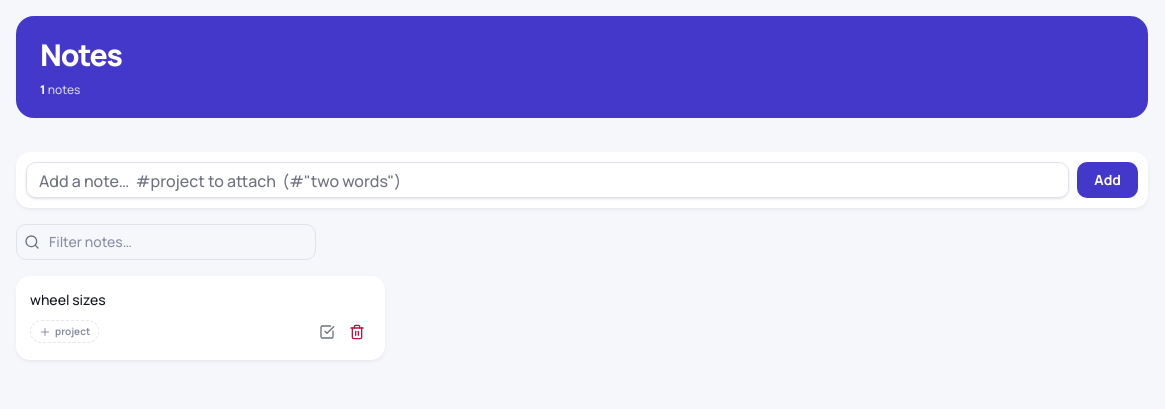
Scenario: editing a note's text › abandons the edit on Escape
Click the button "wheel sizes": (68, 299) [30,290,371,310]
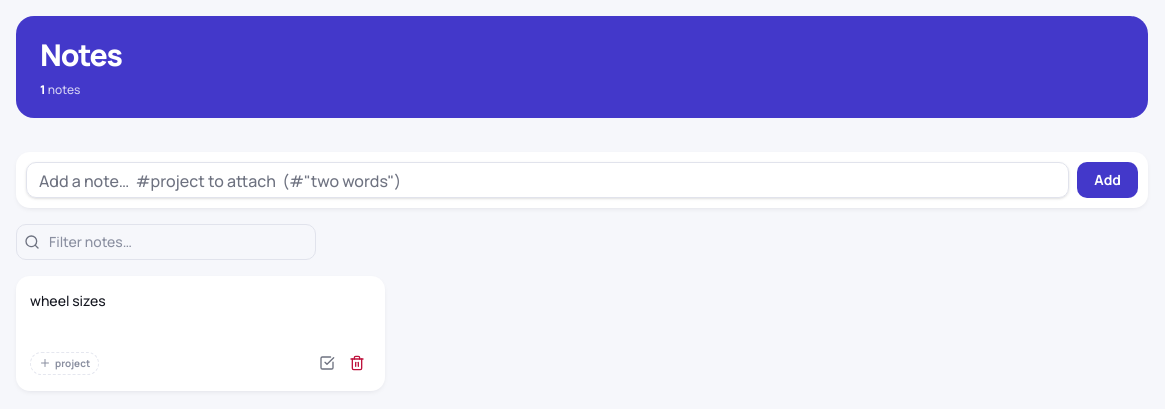
In the text box named "Note text": (201, 312) [30,290,371,335], type " and pressures"
Then press Escape
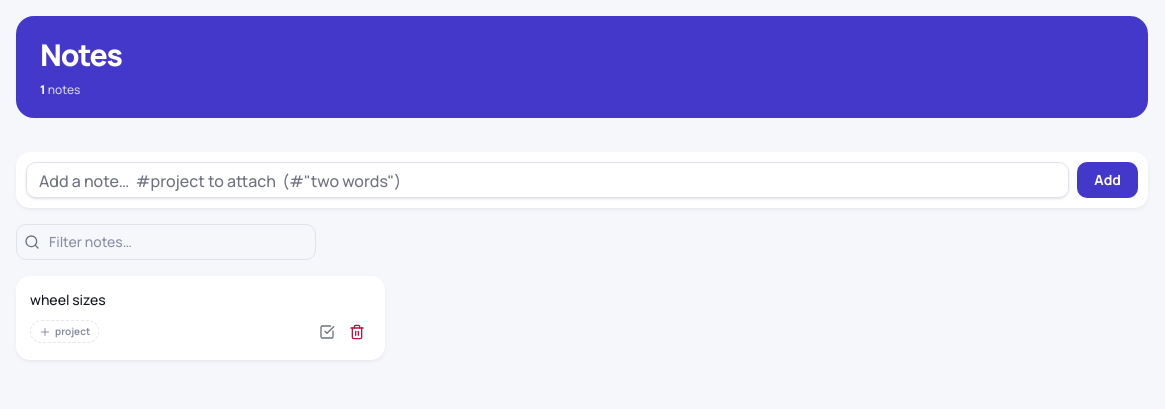
Expected: the text "wheel sizes" is shown, [30,290,106,308]
